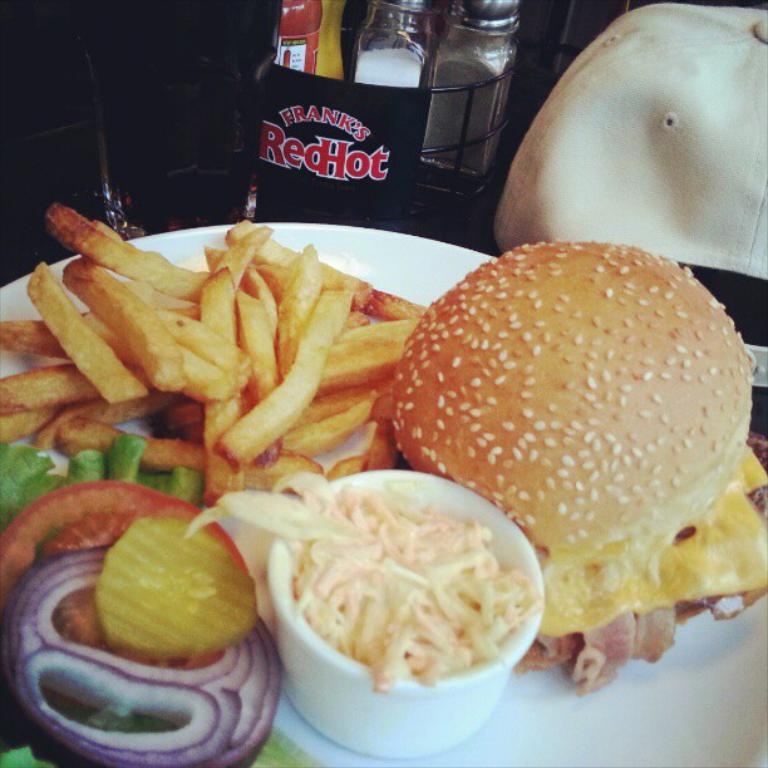French fries: (0, 190, 432, 523)
